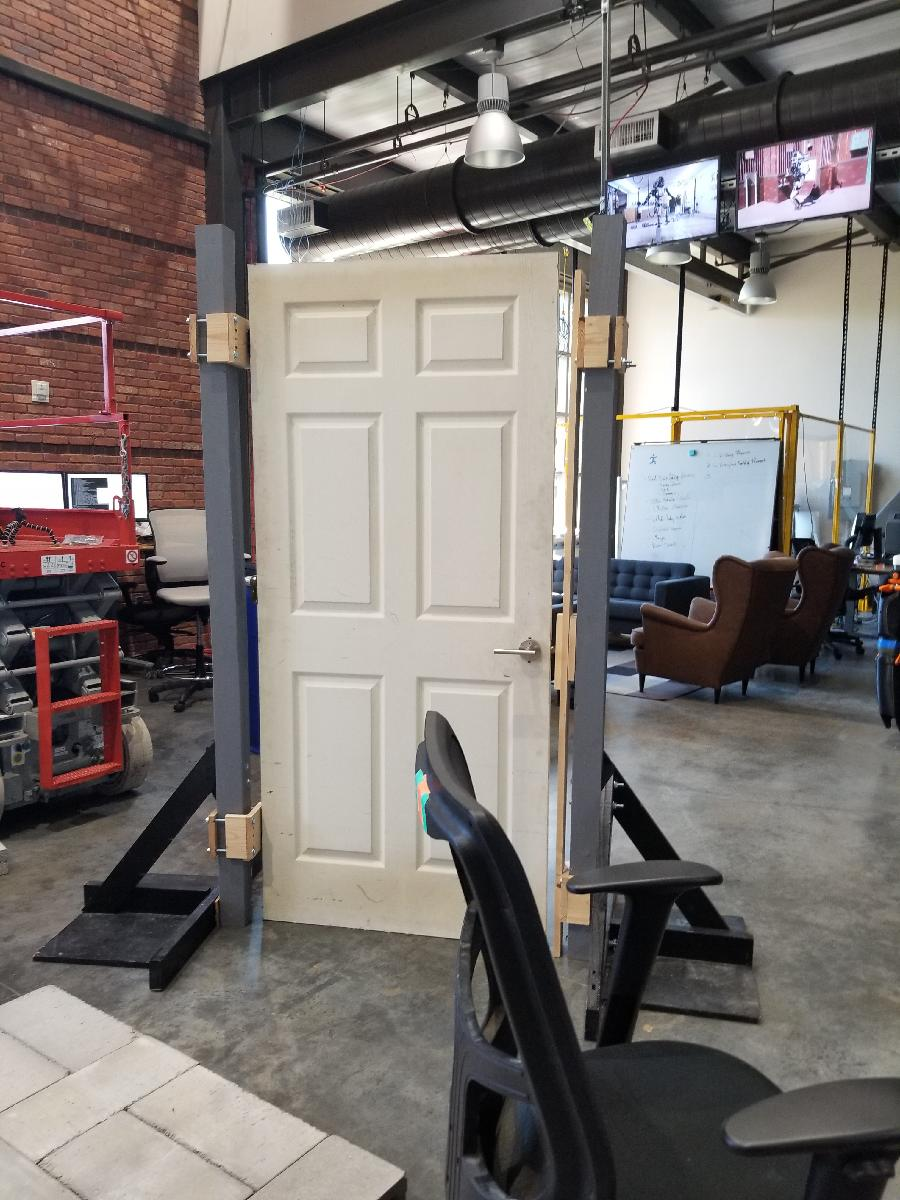door: (242, 250, 566, 947)
doorHandle: (489, 636, 551, 668)
